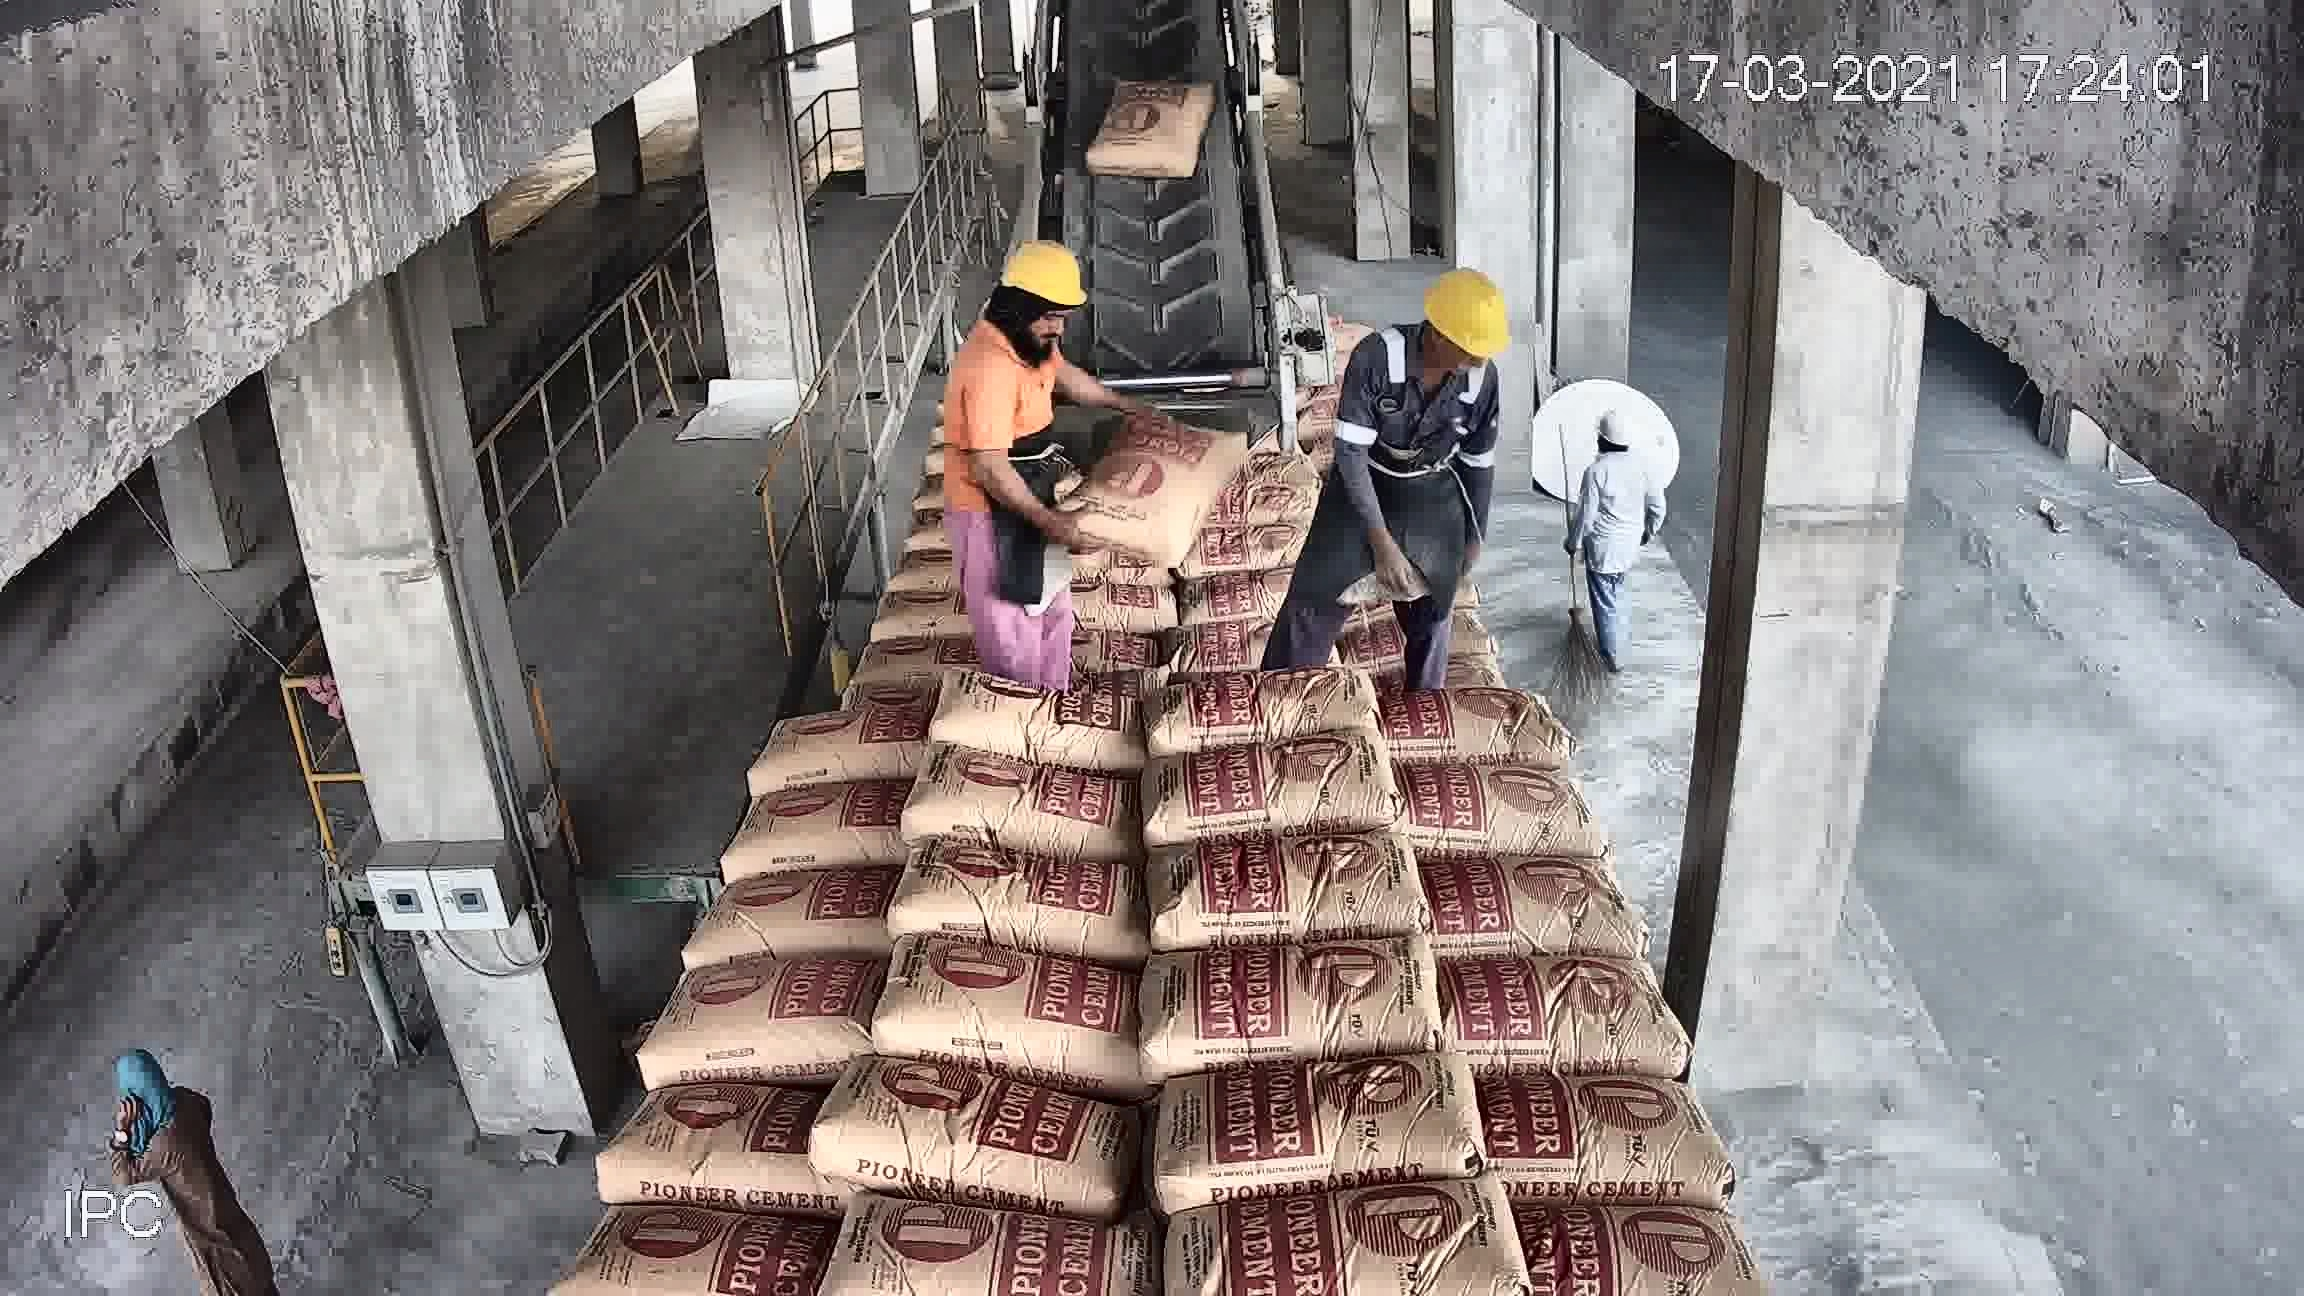bag: (1264, 353, 1415, 437), (1108, 138, 1214, 248)
bag_h: (817, 1060, 1161, 1223), (1136, 1188, 1533, 1296), (843, 943, 1157, 1078), (1120, 1065, 1503, 1169), (1138, 934, 1453, 1059), (1147, 829, 1434, 953), (873, 850, 1174, 967), (1489, 1036, 1723, 1182), (1146, 733, 1427, 850), (636, 951, 907, 1070), (579, 1093, 831, 1206), (525, 1199, 791, 1296), (695, 870, 900, 989), (1169, 560, 1377, 676), (905, 763, 1144, 862), (831, 1225, 1149, 1296), (1473, 937, 1684, 1041), (1408, 847, 1635, 942), (728, 767, 930, 873), (1155, 649, 1397, 737), (919, 669, 1166, 753), (1535, 1201, 1768, 1285), (729, 703, 951, 786), (1324, 620, 1559, 696), (1389, 772, 1579, 866), (1157, 527, 1374, 603), (1138, 475, 1328, 552), (938, 623, 1158, 690), (1388, 706, 1593, 775), (779, 638, 956, 712), (957, 510, 1157, 570), (1366, 570, 1524, 644), (1355, 494, 1503, 571), (815, 529, 961, 608), (801, 578, 957, 649), (962, 570, 1128, 627), (839, 486, 978, 544), (929, 394, 1010, 438), (902, 438, 1017, 468), (1152, 426, 1247, 460), (1152, 399, 1252, 426)
belt: (1051, 2, 1282, 320)
